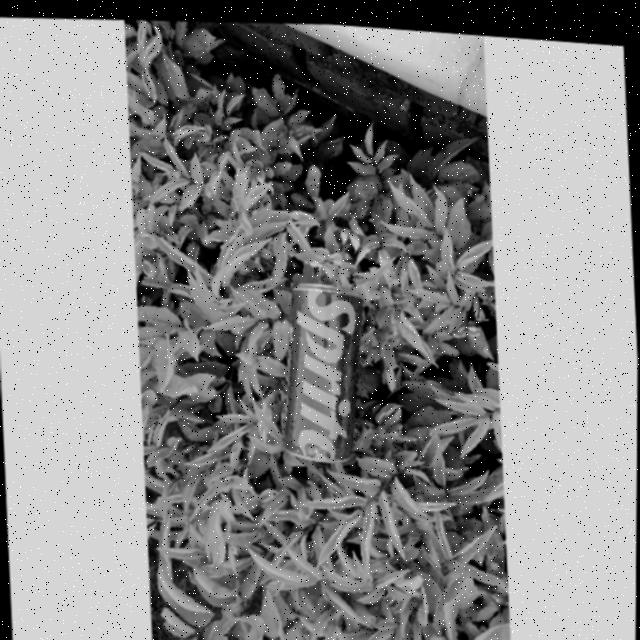Sprite: (284, 276, 369, 463)
